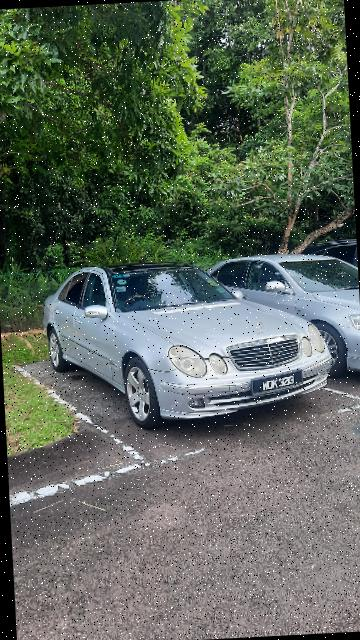License_Plate: (250, 370, 306, 397)
car: (41, 250, 340, 433), (202, 250, 360, 384)
